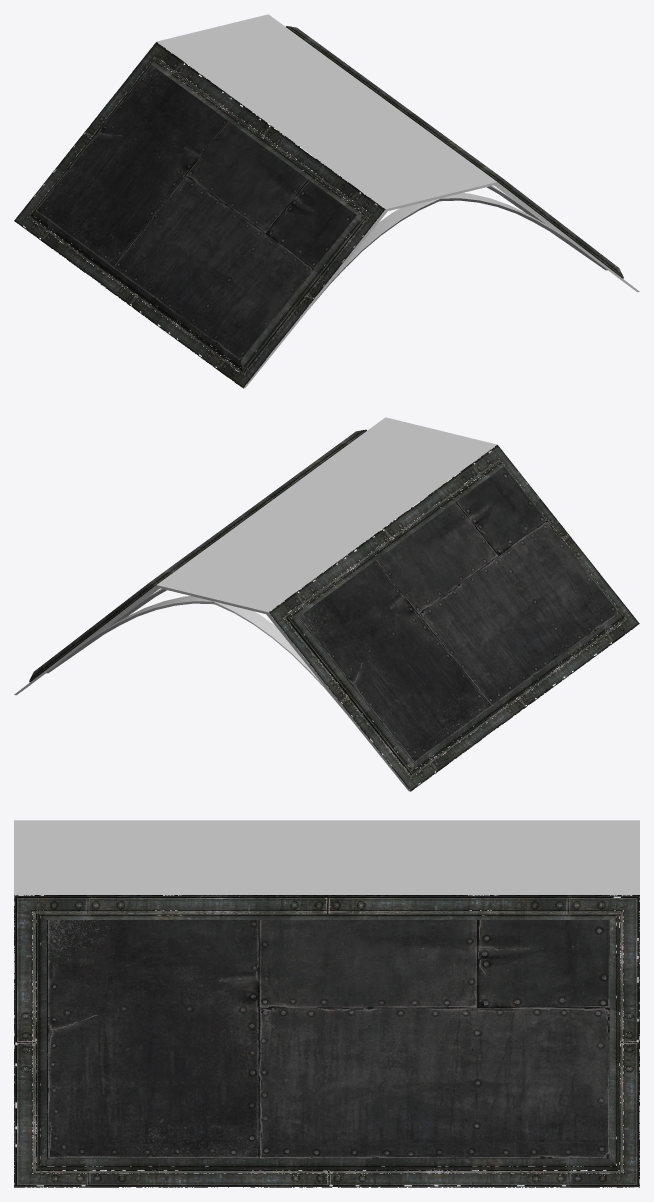
The model's file is tesla_modules1_ceiling_arch.dae.
3 renders of one model, top to bottom at view 1: azimuth 30°, elevation 25°; view 2: azimuth 150°, elevation 25°; view 3: azimuth 270°, elevation 25°, orthographic. The views are drawn at different scales.
Parts seen in each view (by area): view 1: polySurface32, polySurface30, polySurface31; view 2: polySurface32, polySurface30, polySurface31; view 3: polySurface32, polySurface31, polySurface30.
Boxes of the visible parts, left/top/right/bottom form: polySurface32: left=34, top=64, right=501, bottom=361; polySurface30: left=18, top=14, right=639, bottom=388; polySurface31: left=14, top=26, right=623, bottom=388; polySurface32: left=148, top=467, right=619, bottom=763; polySurface30: left=14, top=417, right=639, bottom=791; polySurface31: left=29, top=429, right=639, bottom=791; polySurface32: left=44, top=895, right=609, bottom=1158; polySurface31: left=14, top=895, right=639, bottom=1187; polySurface30: left=14, top=820, right=639, bottom=1187.
Bounding box in the file's own units: 4 × 1.39 × 4.
